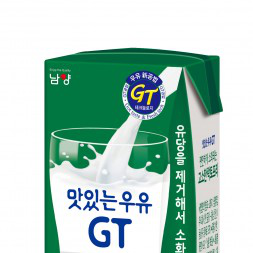milk: (44, 48, 223, 253)
